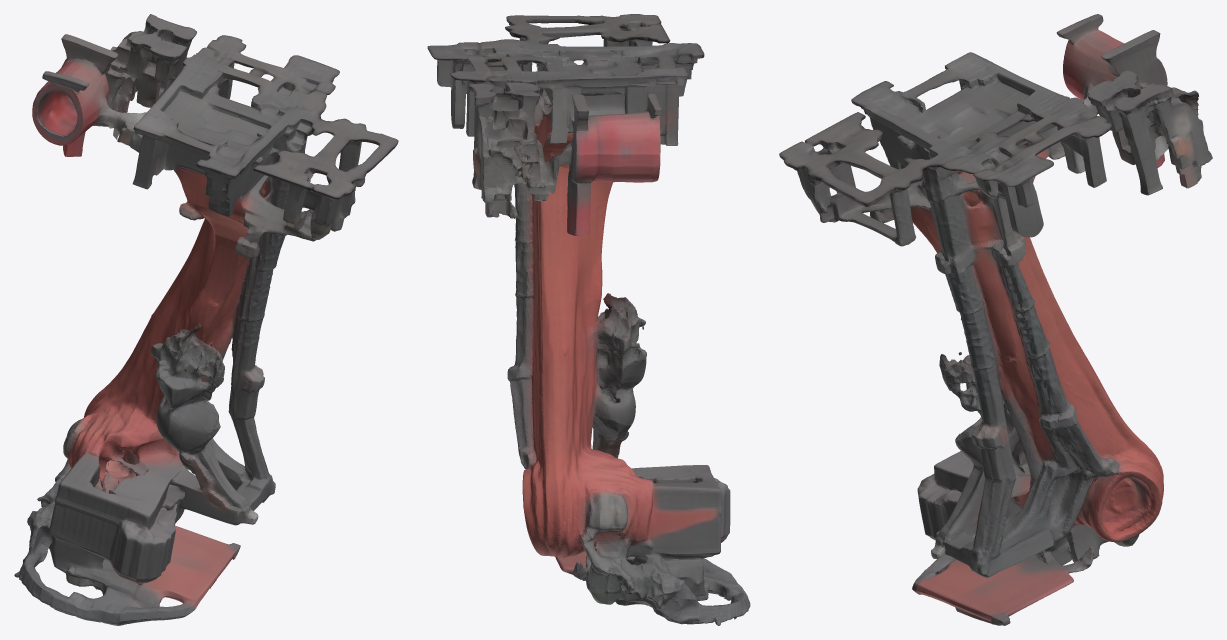
Rendered from robot-multi.glb.
3 views of the same model, side by side, from view 1: azimuth 30°, elevation 25°; view 2: azimuth 150°, elevation 25°; view 3: azimuth 270°, elevation 25° (orthographic). The views are drawn at different scales.
Parts seen in each view (by area): view 1: geometry_0; view 2: geometry_0; view 3: geometry_0.
Boxes of the visible parts, bbox=[...] form: geometry_0: bbox=[14, 14, 398, 625]; geometry_0: bbox=[427, 14, 750, 625]; geometry_0: bbox=[779, 14, 1212, 625].
Bounding box in the file's own units: 1.74 × 2.82 × 1.97.
